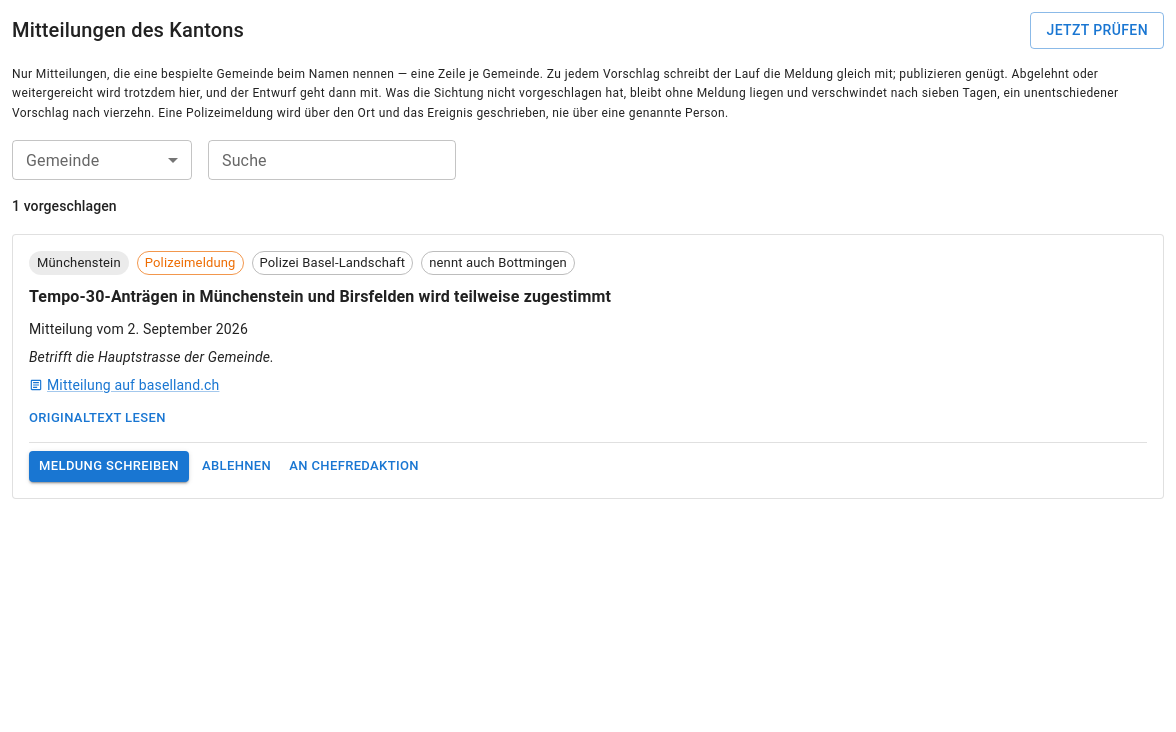
Test case: Kanton › zeigt den Originaltext erst auf Klick und markiert eine Polizeimeldung
Expected: the text "Polizeimeldung" is shown, [138,253,242,273]
Expected: the text "Hauptstrasse gilt neu" is not shown
Click the button "Originaltext lesen" at (97, 419), box [29,403,166,434]
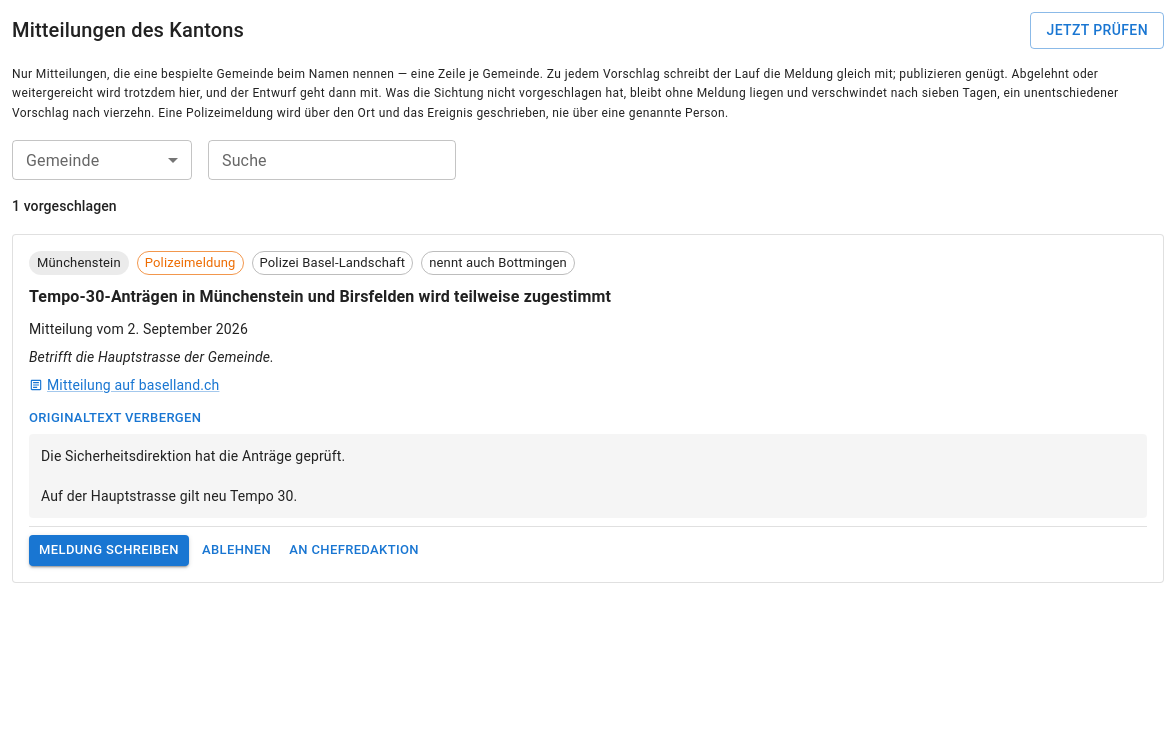
Now the text "Hauptstrasse gilt neu" is shown, box [41,448,345,504]
